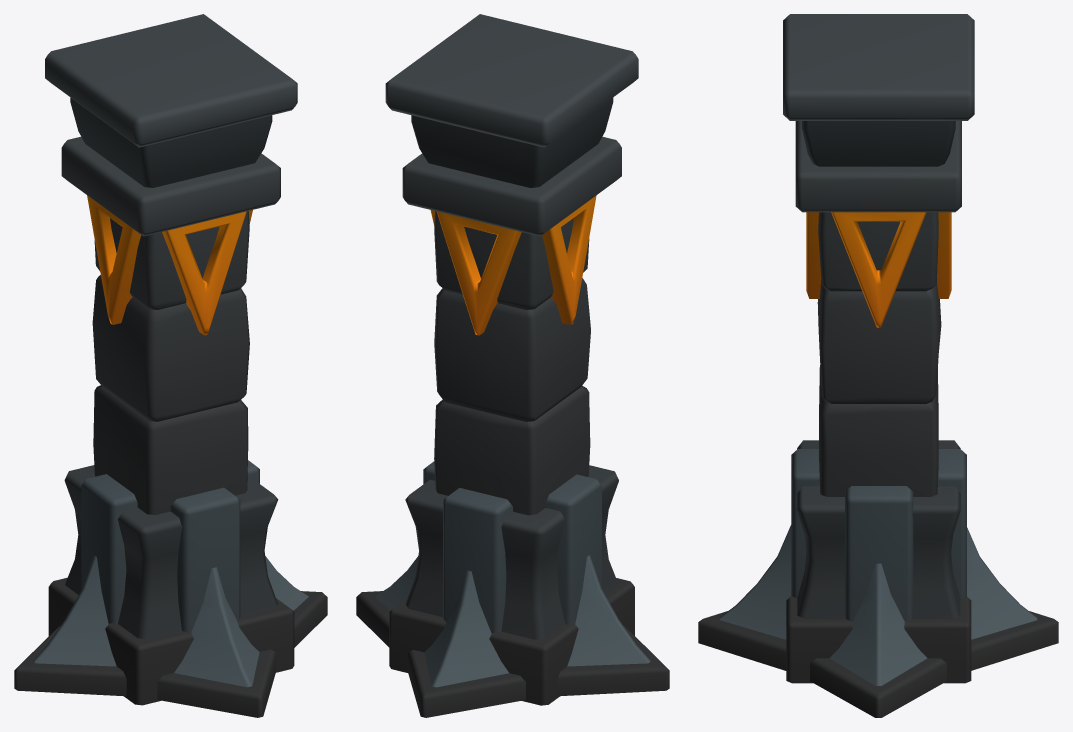
The model's file is inferno-column-big-001.glb.
3 views of the same model, side by side, from view 1: azimuth 30°, elevation 25°; view 2: azimuth 150°, elevation 25°; view 3: azimuth 270°, elevation 25° (orthographic).
Parts seen in each view (by area): view 1: ColumnBig_001; view 2: ColumnBig_001; view 3: ColumnBig_001.
Boxes of the visible parts, x1,y1,x2,y2 form: ColumnBig_001: [14, 14, 327, 717]; ColumnBig_001: [356, 14, 669, 717]; ColumnBig_001: [698, 14, 1058, 717].
Bounding box in the file's own units: 4.52 × 8.2 × 4.52.
2 materials, 2 textured.
